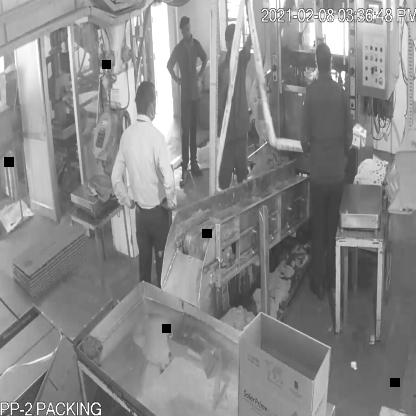no_glove: (151, 132, 182, 218), (110, 147, 136, 215), (195, 41, 215, 87), (165, 53, 188, 90)
